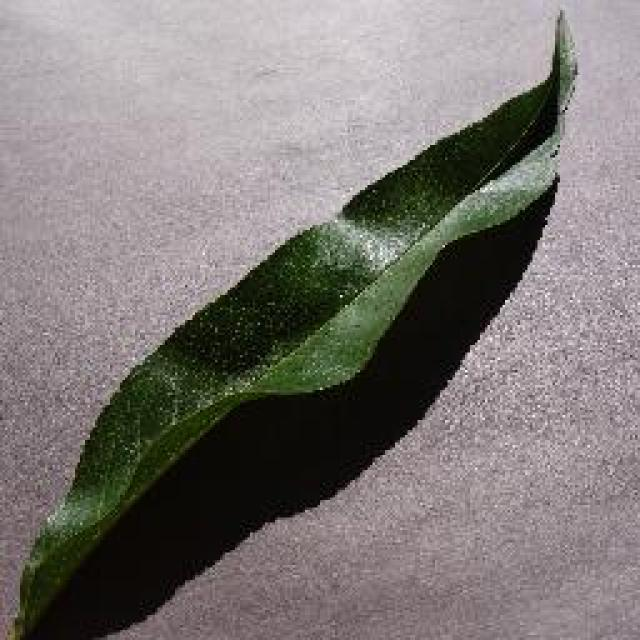Pea_healthy: (54, 121, 564, 551)
